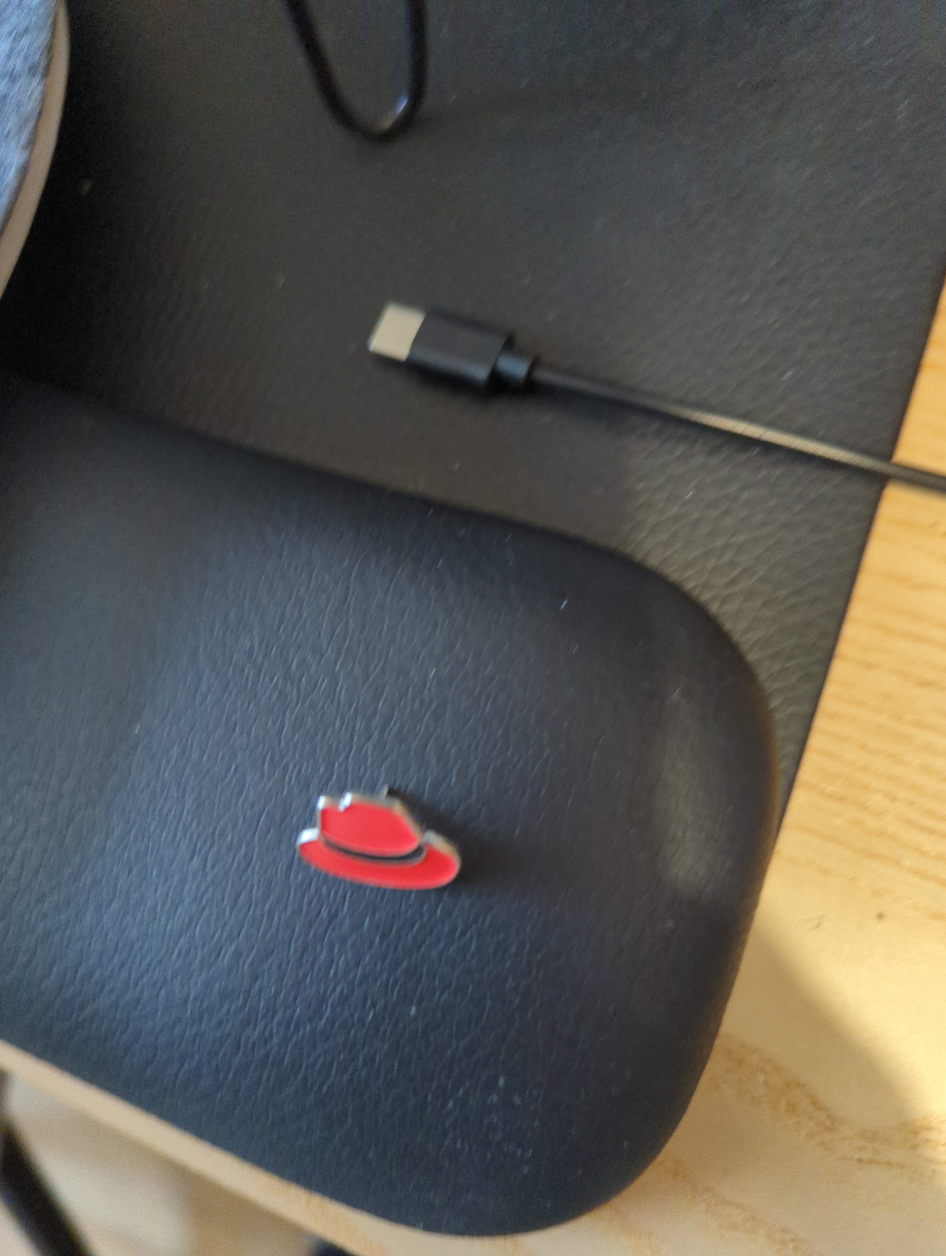Red-Hat: (229, 727, 572, 975)
